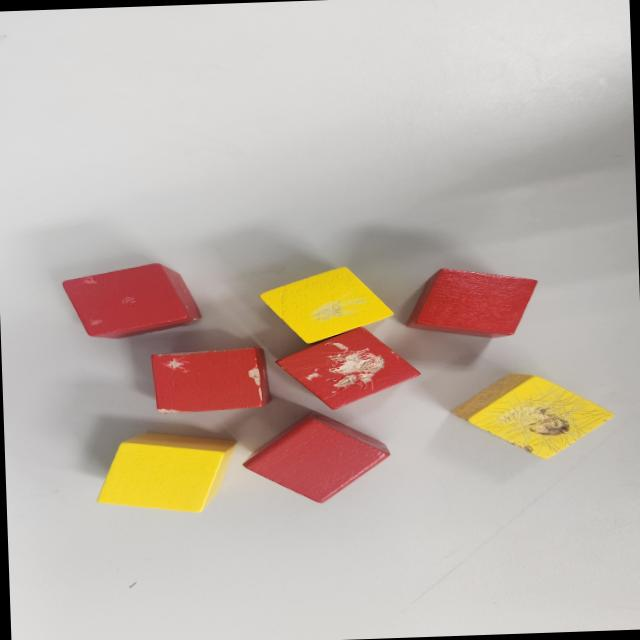broken: (450, 369, 614, 462), (272, 325, 423, 412), (258, 265, 396, 346), (61, 262, 202, 340), (148, 347, 272, 415)
red: (239, 408, 392, 504), (405, 265, 540, 341)
yellow: (95, 429, 241, 515)
